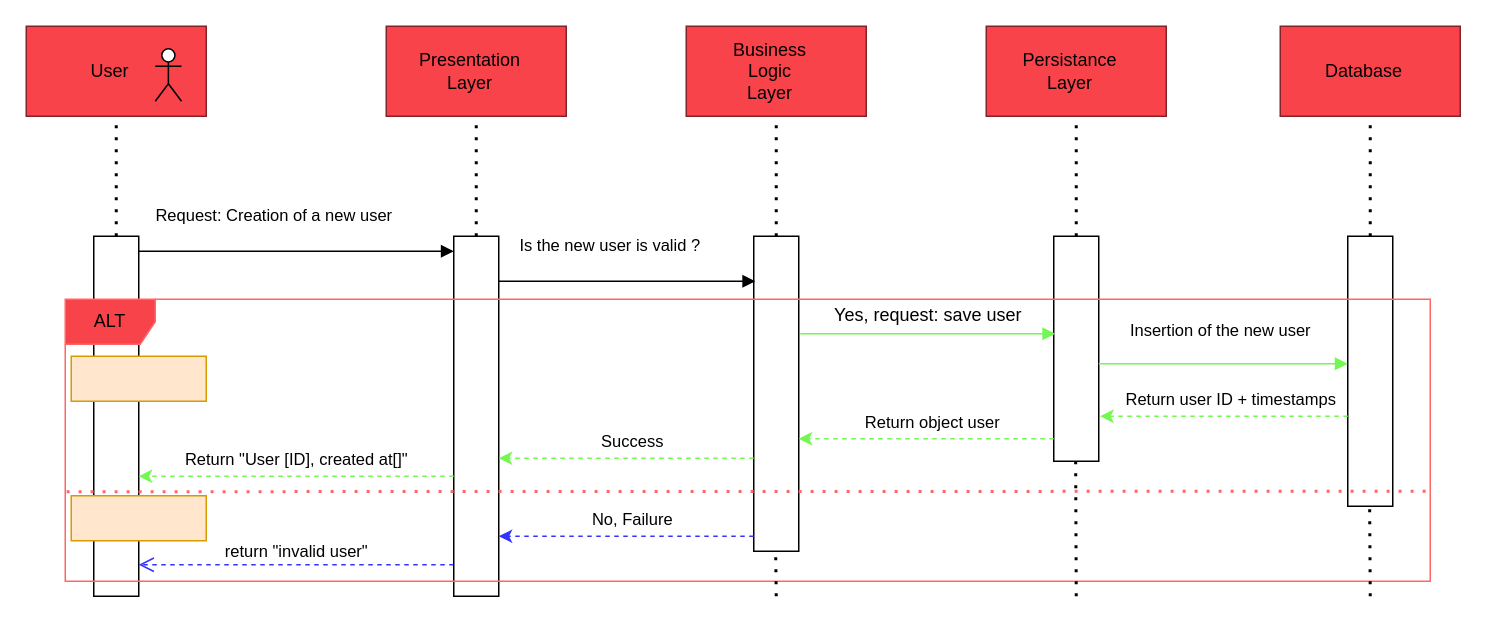
This 1487x626 diagram has some shape labels left out. The centre of each missing label's shape, as x and y in pixels:
"Else:" goes at point (138, 517).
"If user is valid:" goes at point (138, 378).
